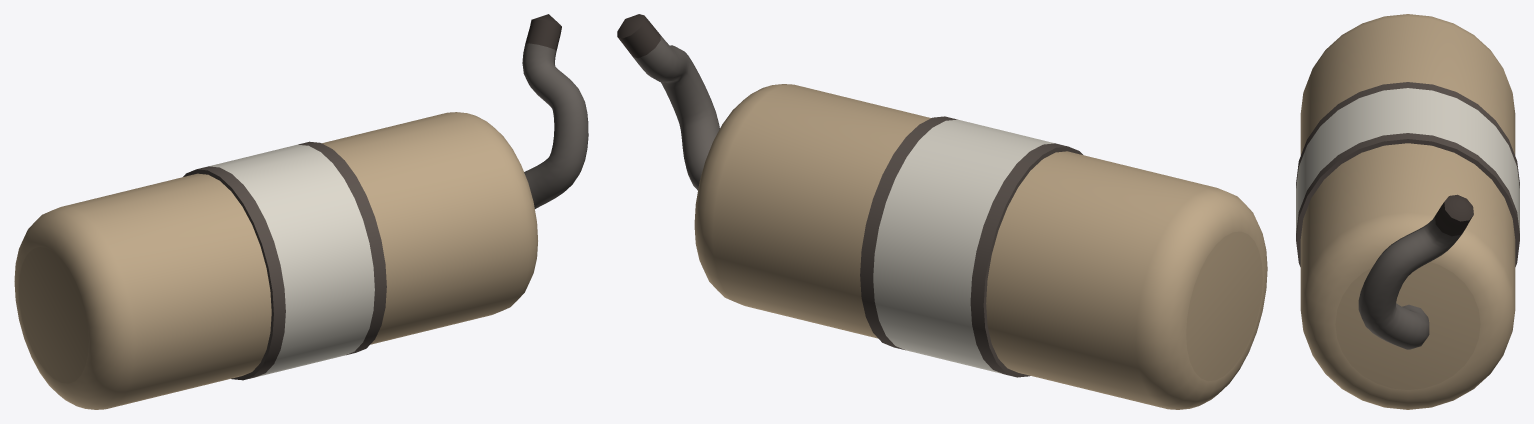
Rendered from dynamite_c_stick_tan.glb.
The picture shows the model from 3 angles, left to right: view 1: azimuth 30°, elevation 25°; view 2: azimuth 150°, elevation 25°; view 3: azimuth 270°, elevation 25°; orthographic projection. The views are drawn at different scales.
Visible parts, largest first — view 1: Dynamite; view 2: Dynamite; view 3: Dynamite.
Boxes of the visible parts, left/top/right/bottom form: Dynamite: left=14, top=14, right=588, bottom=409; Dynamite: left=617, top=14, right=1267, bottom=409; Dynamite: left=1296, top=14, right=1519, bottom=409.
Bounding box in the file's own units: 0.6188 × 0.2836 × 0.219.
